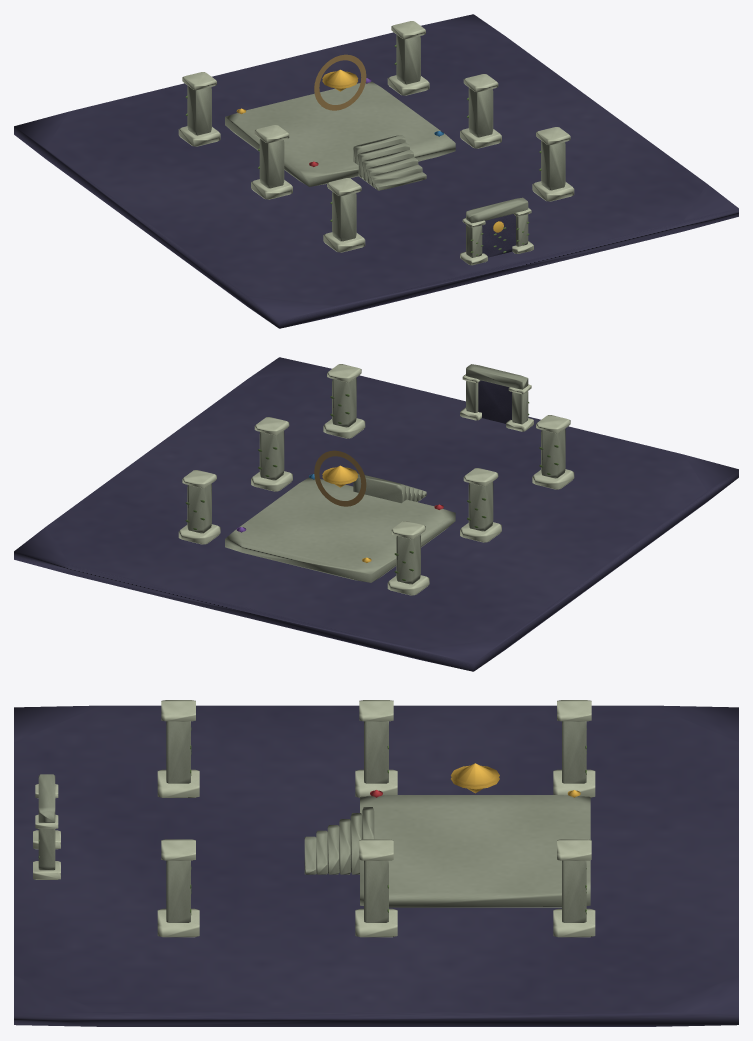
Rendered from sun_chamber.glb.
The picture shows the model from 3 angles, top to bottom: view 1: azimuth 30°, elevation 25°; view 2: azimuth 150°, elevation 25°; view 3: azimuth 270°, elevation 25°; orthographic projection. The views are drawn at different scales.
Visible parts, largest first — view 1: sun_chamber_StaticBatch; view 2: sun_chamber_StaticBatch; view 3: sun_chamber_StaticBatch.
Part boxes in pixels (x1=…): sun_chamber_StaticBatch: x1=14, y1=14, x2=738, y2=328; sun_chamber_StaticBatch: x1=14, y1=357, x2=738, y2=671; sun_chamber_StaticBatch: x1=14, y1=700, x2=738, y2=1026.
Size of the model in its own units: 22 by 4.35 by 22.
1 material, 1 textured.
